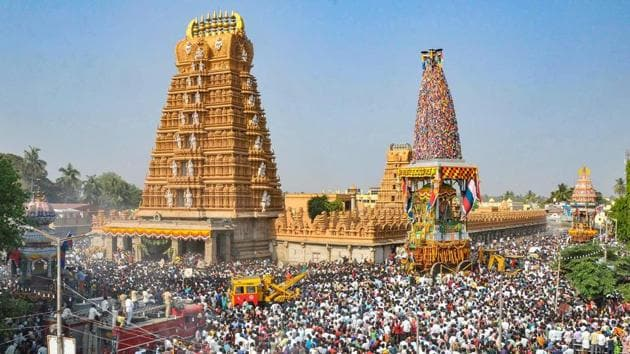Temple: (144, 17, 281, 212), (405, 40, 478, 205)
